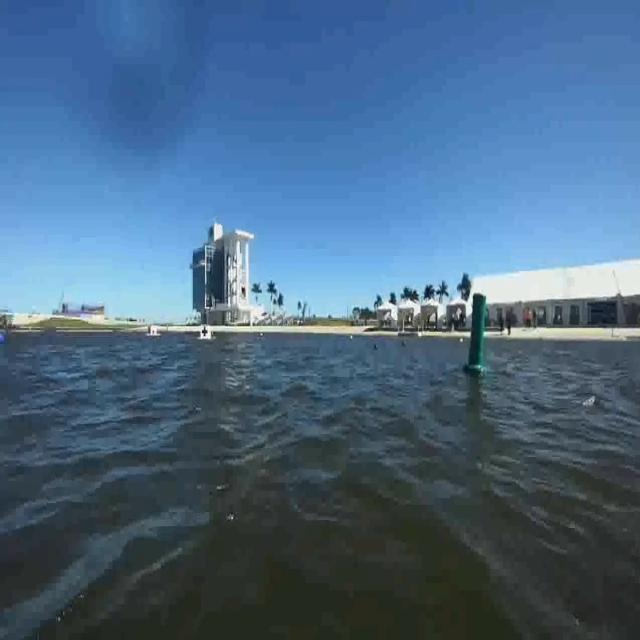green-column-buoy: (464, 292, 490, 376)
